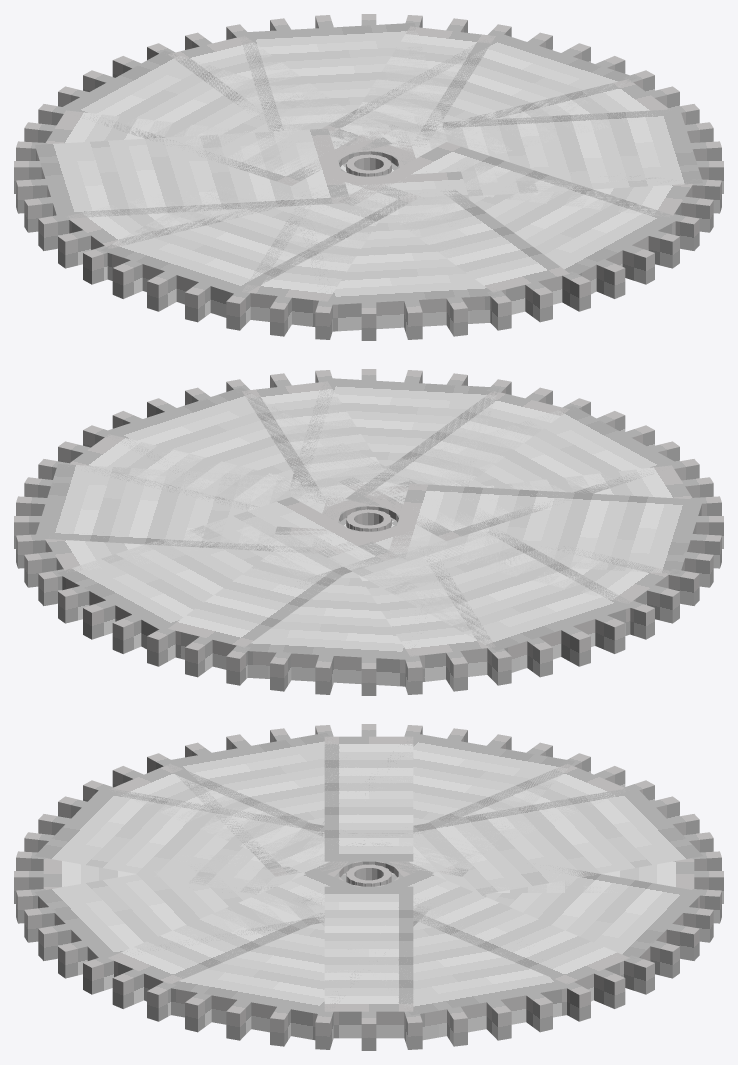
File: large_gear.obj
3 renders of one model, top to bottom at view 1: azimuth 30°, elevation 25°; view 2: azimuth 150°, elevation 25°; view 3: azimuth 270°, elevation 25°, orthographic.
Parts seen in each view (by area): view 1: cube; view 2: cube; view 3: cube.
Boxes of the visible parts, x1,y1,x2,y2 form: cube: (14,14,723,340); cube: (14,369,723,695); cube: (14,724,723,1050).
Bounding box in the file's own units: 3 × 0.125 × 3.
